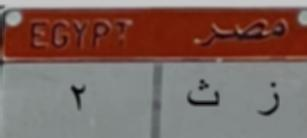2: (58, 77, 103, 117)
thaa: (182, 73, 223, 111)
zay: (251, 75, 289, 122)
